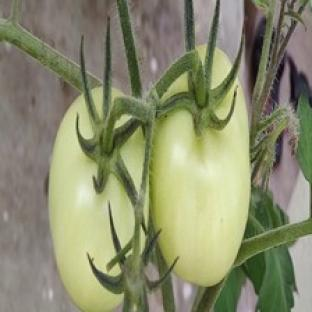Tomato: (151, 81, 250, 285), (49, 95, 133, 311)
